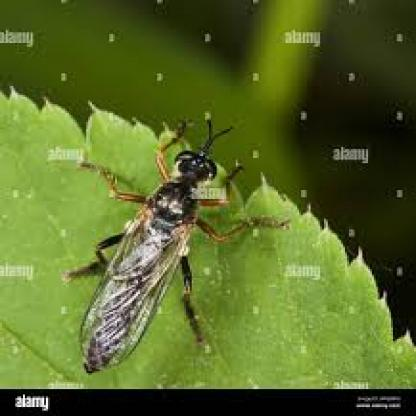sawfly: (56, 115, 286, 376)
